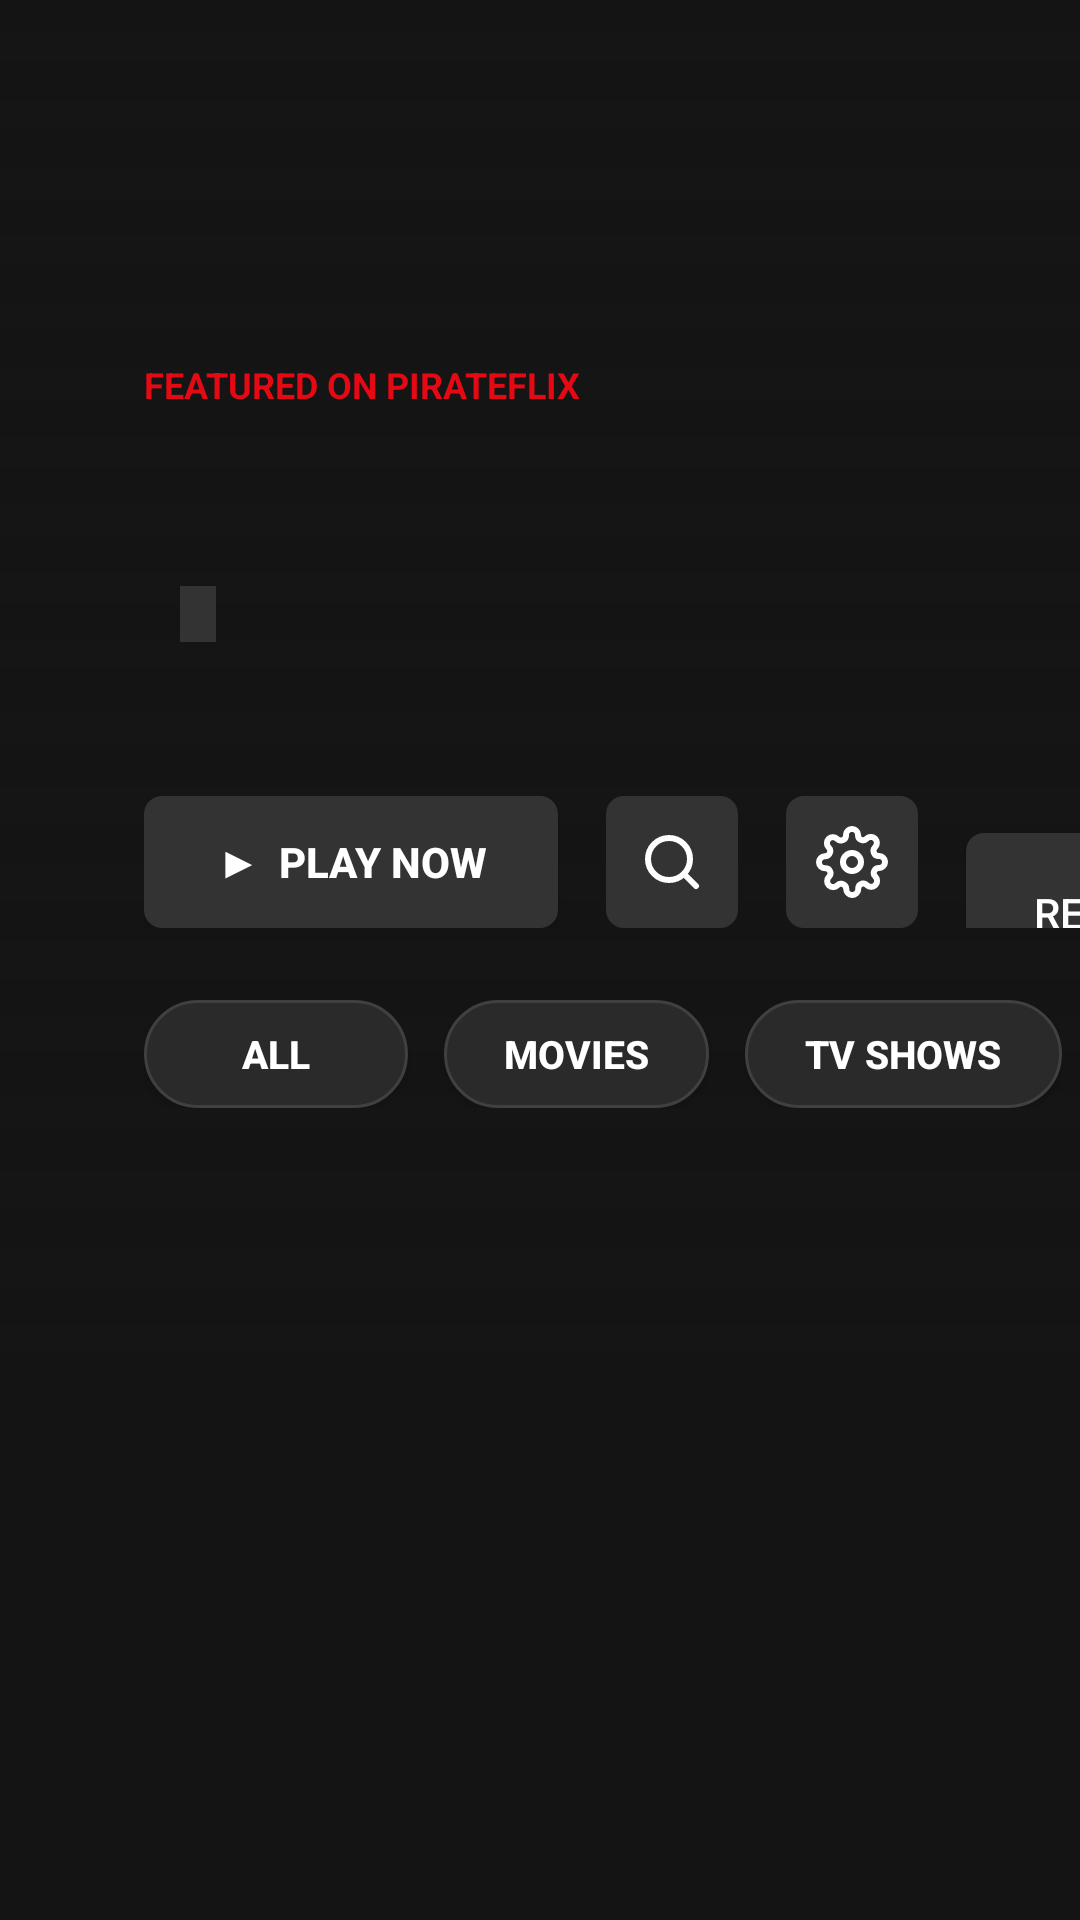

Where icons sit on this 1080w x 1920h app screen, as [x1,y1,x2,y2]:
Settings and Updates: [786,796,918,928]
